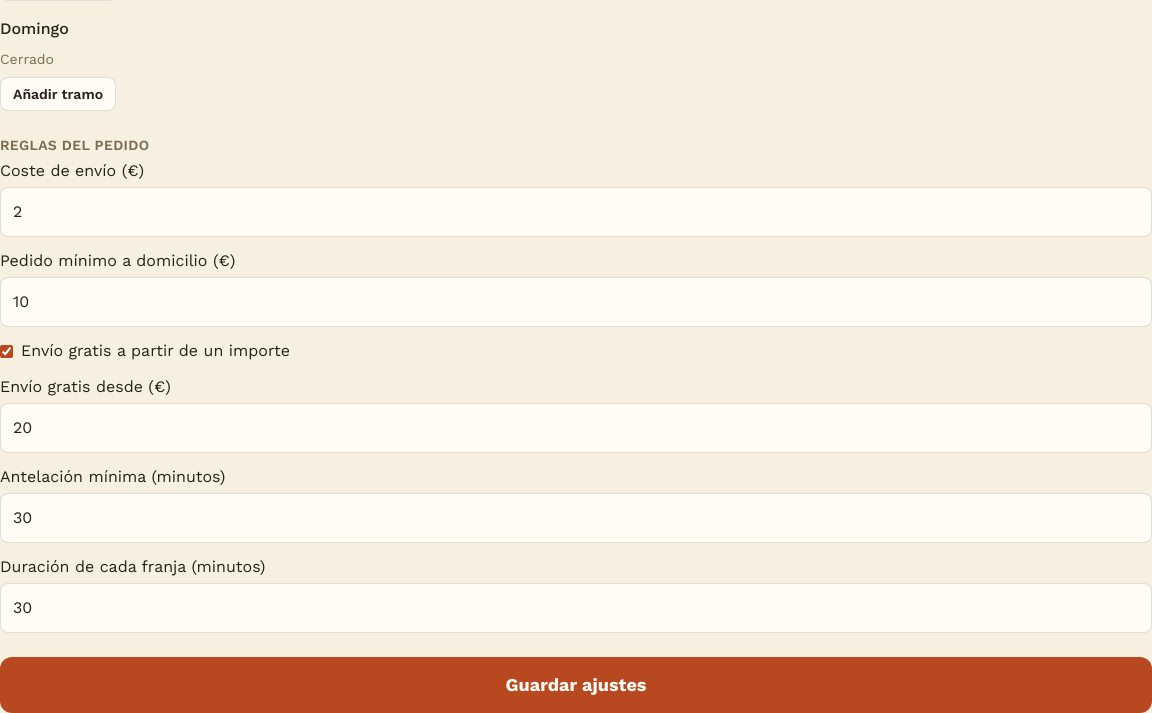
FormularioAjustes › avisa si el envío gratis no supera el pedido mínimo
(page scrolled)
Replace the text in the field labelled "Envío gratis desde (€)" with "5": (576, 428) [0,403,1151,453]
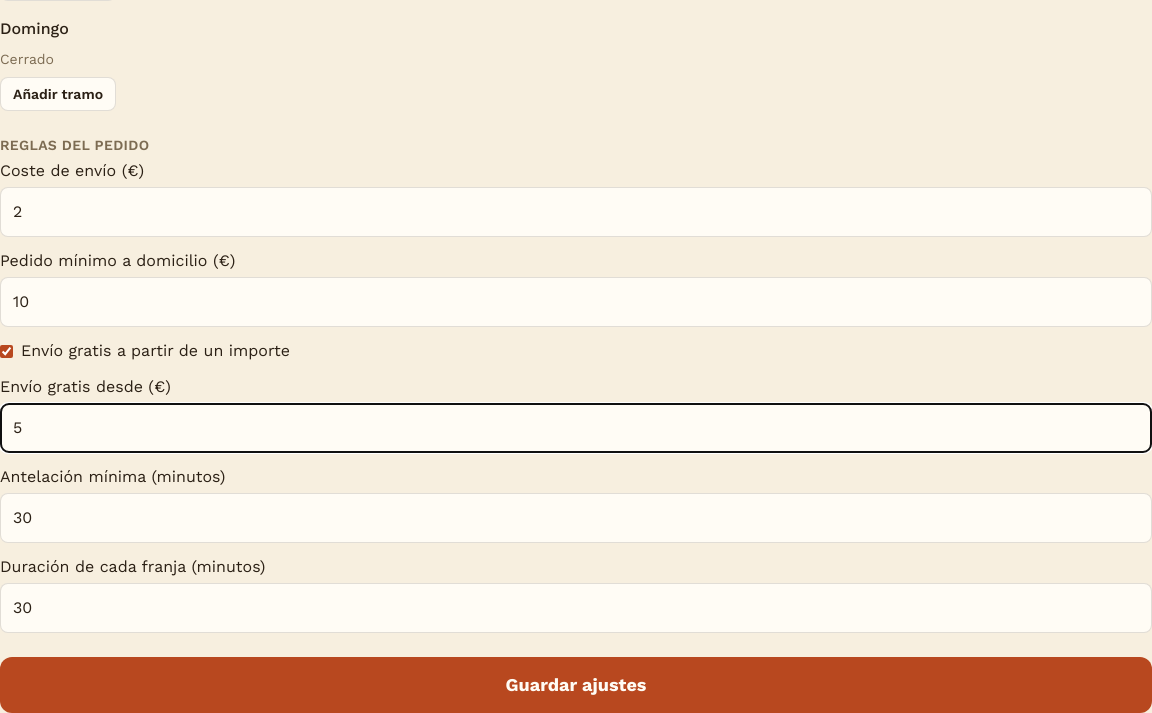
Click the button "Guardar ajustes": (576, 685) [0,657,1151,712]
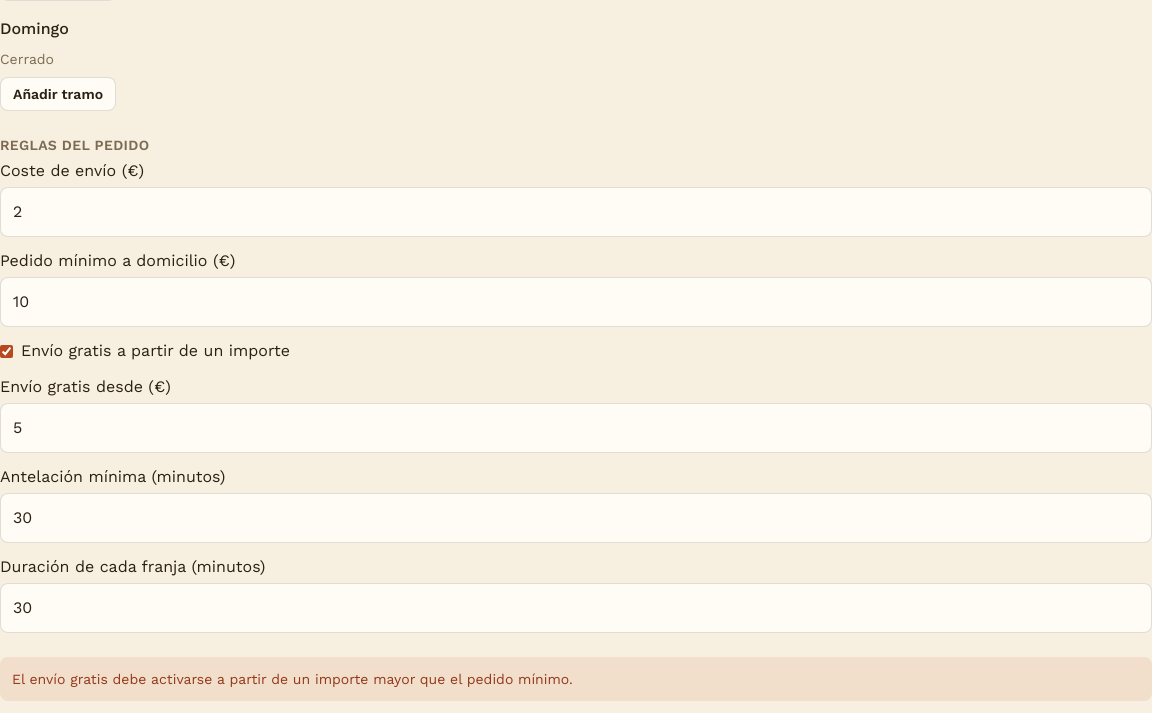
Expected: the text "El envío gratis debe activarse a partir de un importe mayor que el pedido mínimo." is shown, [12,671,573,687]
